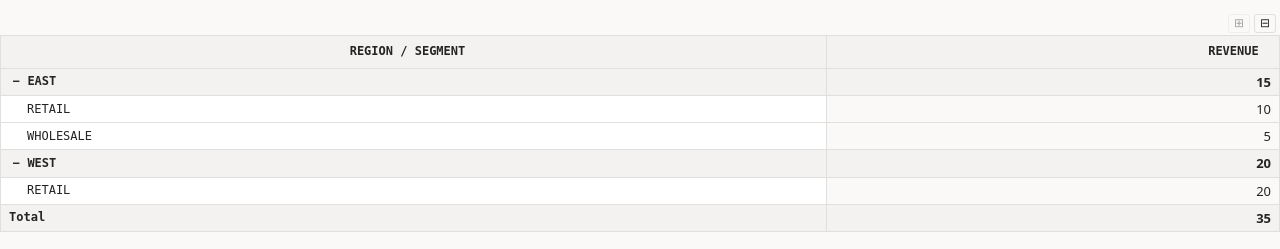
Test: MatrixTable › collapses a group without losing its subtotal
Expected: the number of column headings "RETAIL" is 2, [0, 96, 827, 123]; [0, 178, 827, 205]
Click the button named "Collapse EAST" at (16, 82), box [9, 74, 23, 90]
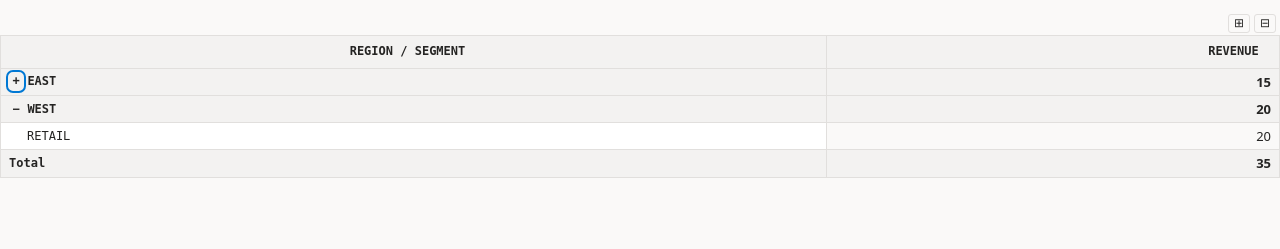
Expected: the row "+ EAST 15" is shown, [0, 69, 1279, 96]
Now the number of column headings "RETAIL" is 1, box [0, 123, 827, 150]
